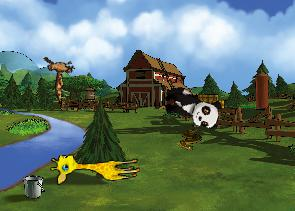eagle: (31, 45, 87, 104)
giraffe: (49, 147, 141, 185)
panda: (158, 83, 225, 132)
